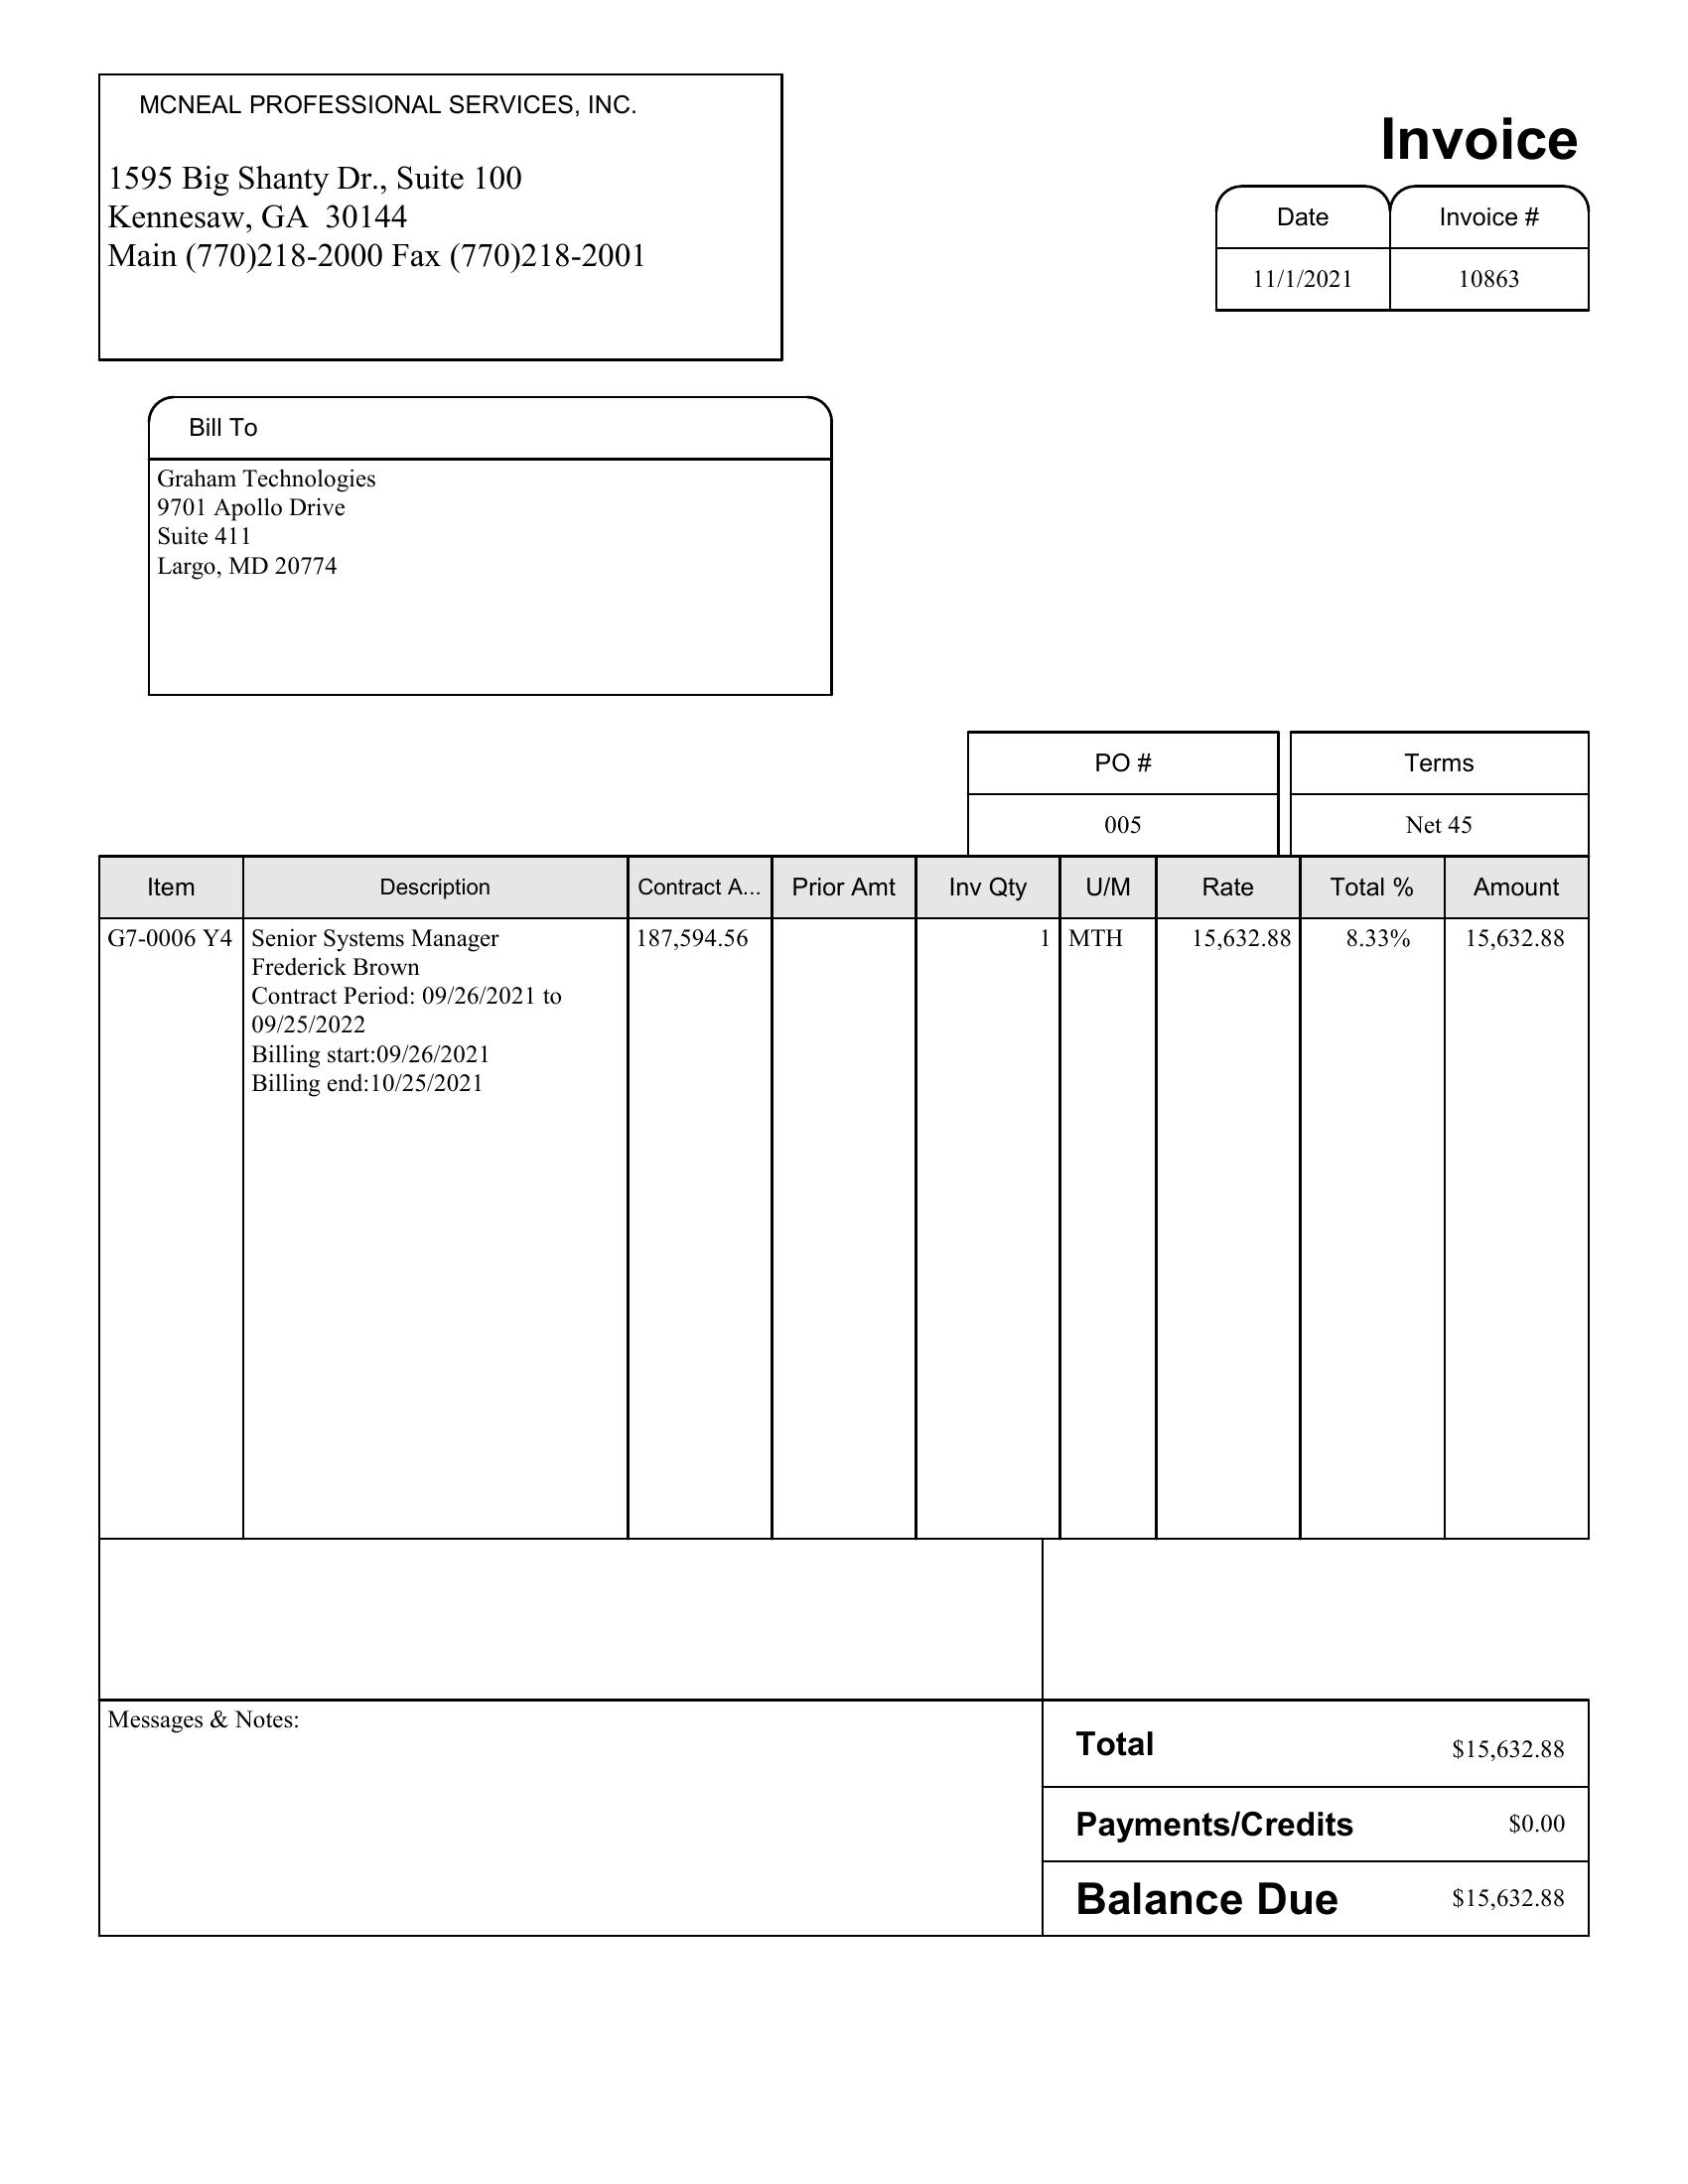table: (89, 858, 1612, 1553), (950, 713, 1605, 858), (1213, 175, 1601, 335)
